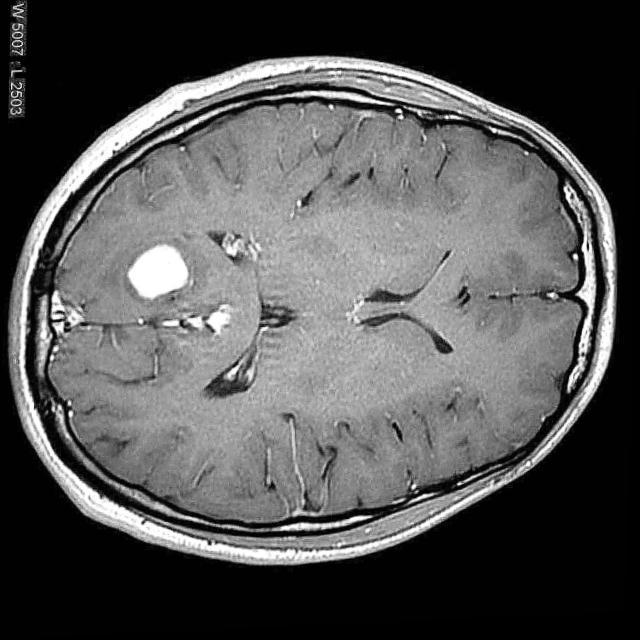Tumor: (122, 233, 198, 309)
